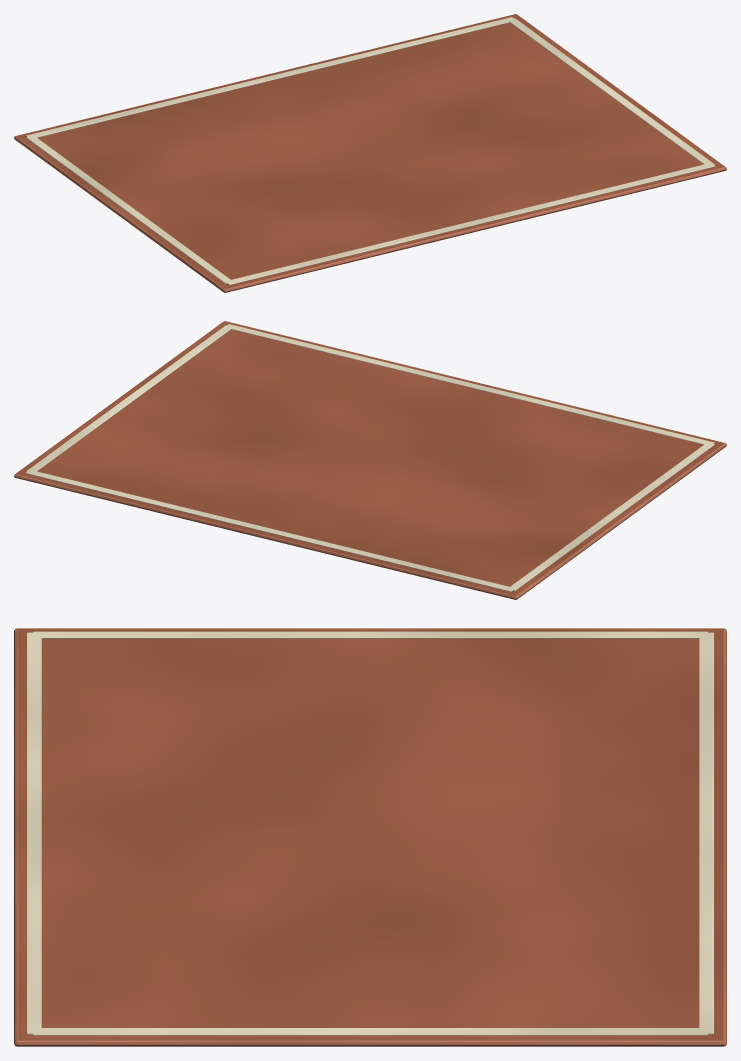
File: 15_Rehearsal_Rug.fbx
3 views of the same model, one above another, from view 1: azimuth 30°, elevation 25°; view 2: azimuth 150°, elevation 25°; view 3: azimuth 270°, elevation 25° (orthographic). The views are drawn at different scales.
Visible parts, largest first — view 1: 15_Rehearsal_Rug; view 2: 15_Rehearsal_Rug; view 3: 15_Rehearsal_Rug.
Part boxes in pixels (x1,y1,x2,y2): 15_Rehearsal_Rug: (14,14,726,292); 15_Rehearsal_Rug: (14,321,726,599); 15_Rehearsal_Rug: (14,628,726,1046).
Size of the model in its own units: 362 by 3.15 by 263.
Materials: 1 (1 with a texture image).
